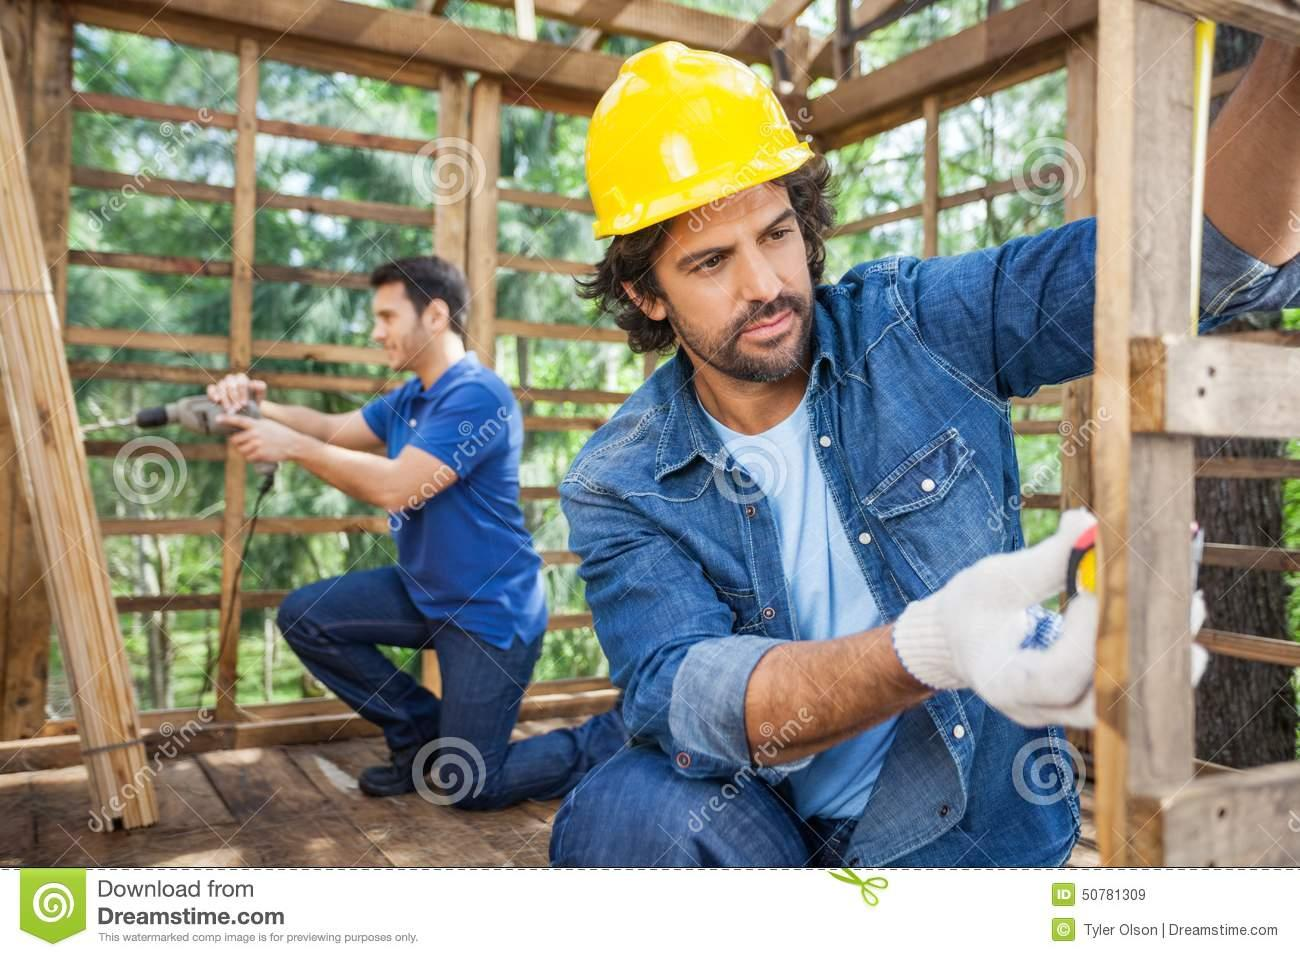helmet: (587, 41, 816, 245)
